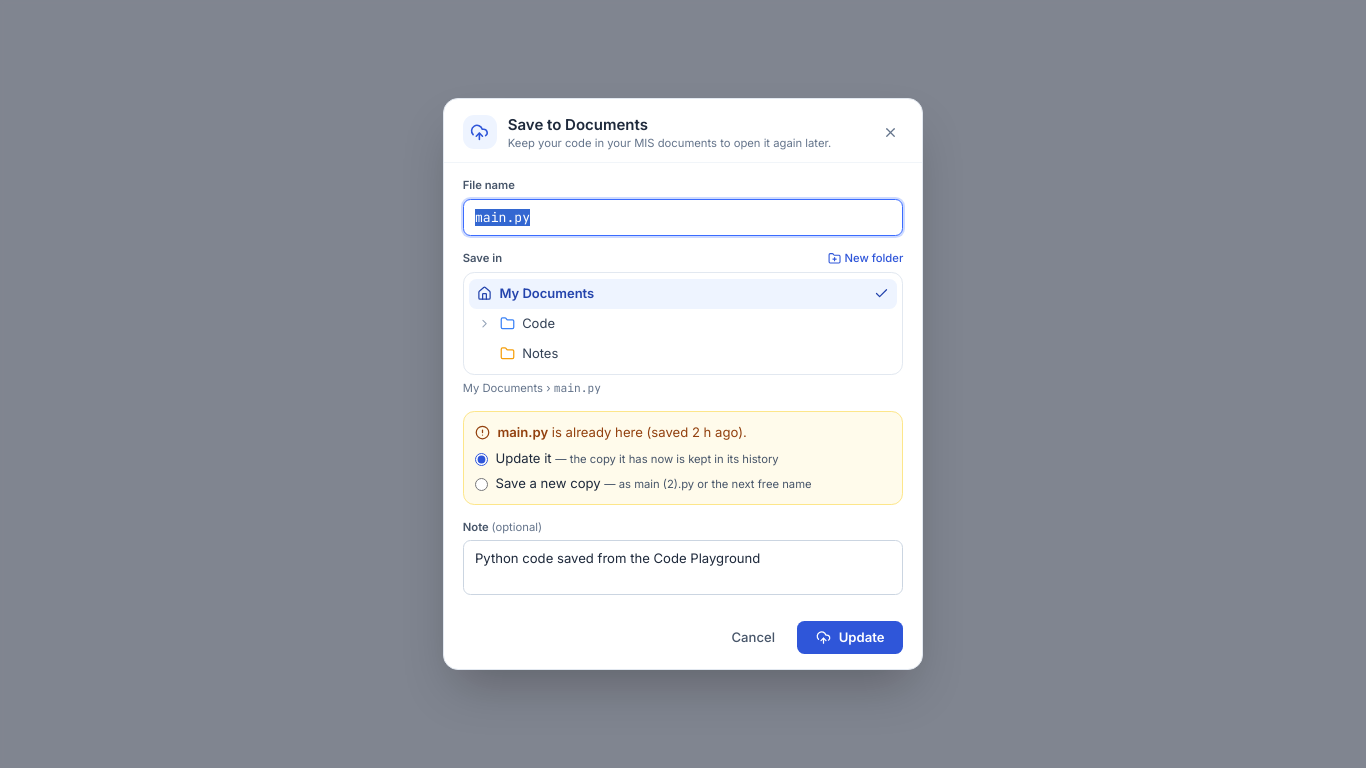
Scenario: SaveToDocumentsDialog › updates the copy saved before (keeping its history) unless a new copy is chosen
Expected: the element with test id "save-docs-existing" shows "main.py is already here (saved 2 h ago)", [475,424,812,491]
Click the button with test id "save-docs-submit".
click(850, 638)  # box [798,621,903,654]
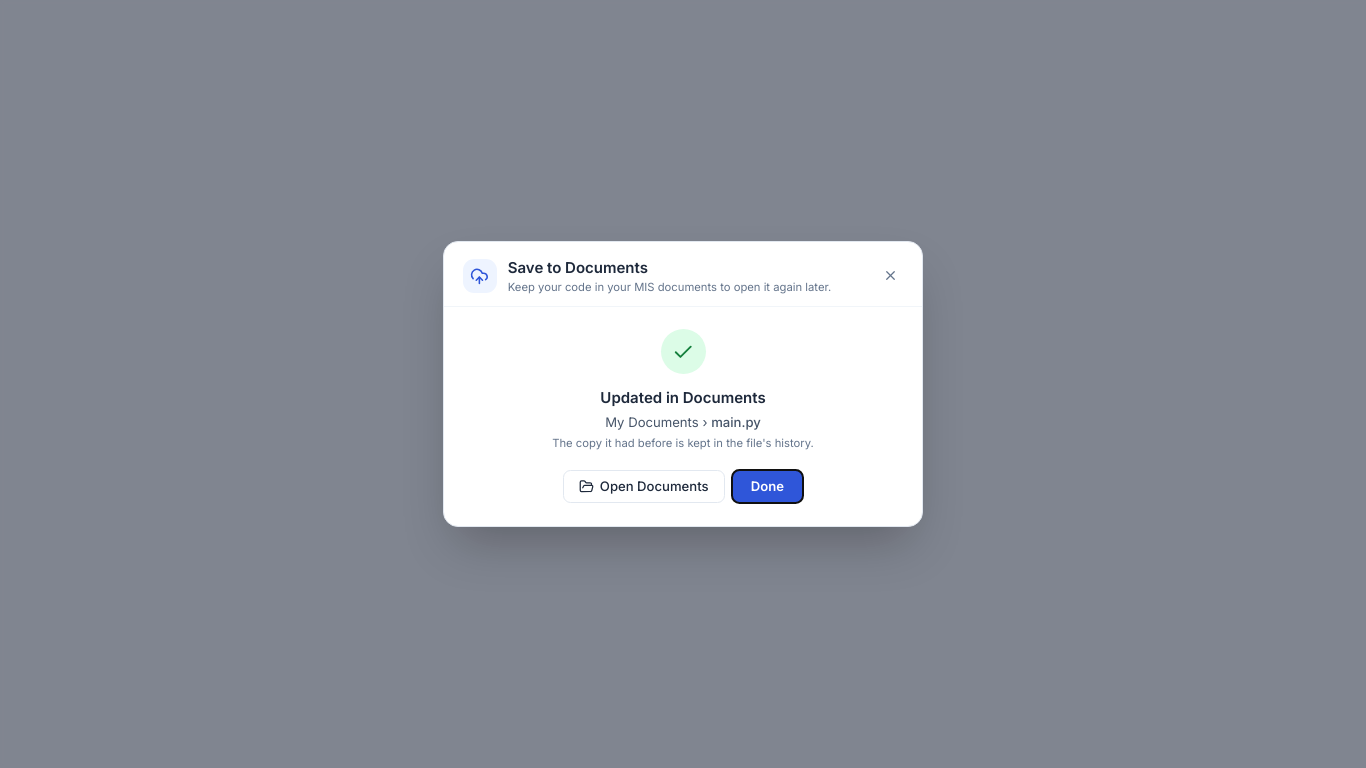
Now the message with test id "save-docs-done" is shown, box [552,329,814,503]
